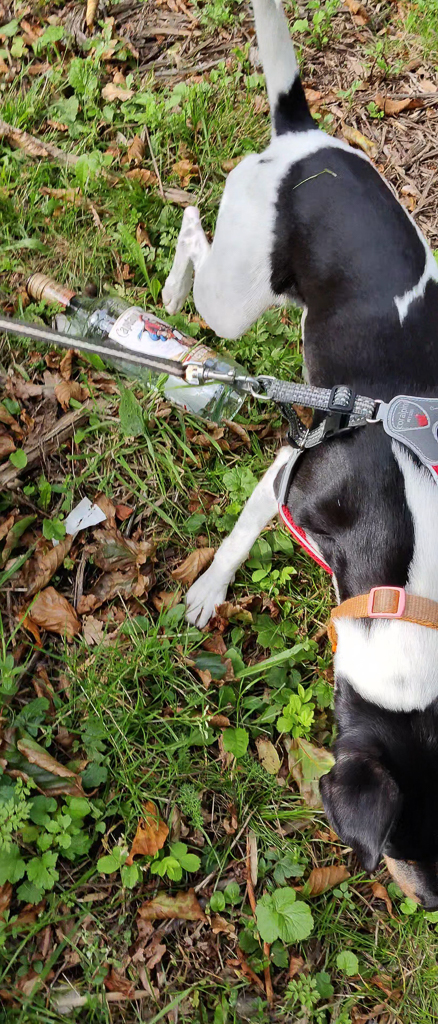Dog: (147, 0, 438, 933)
